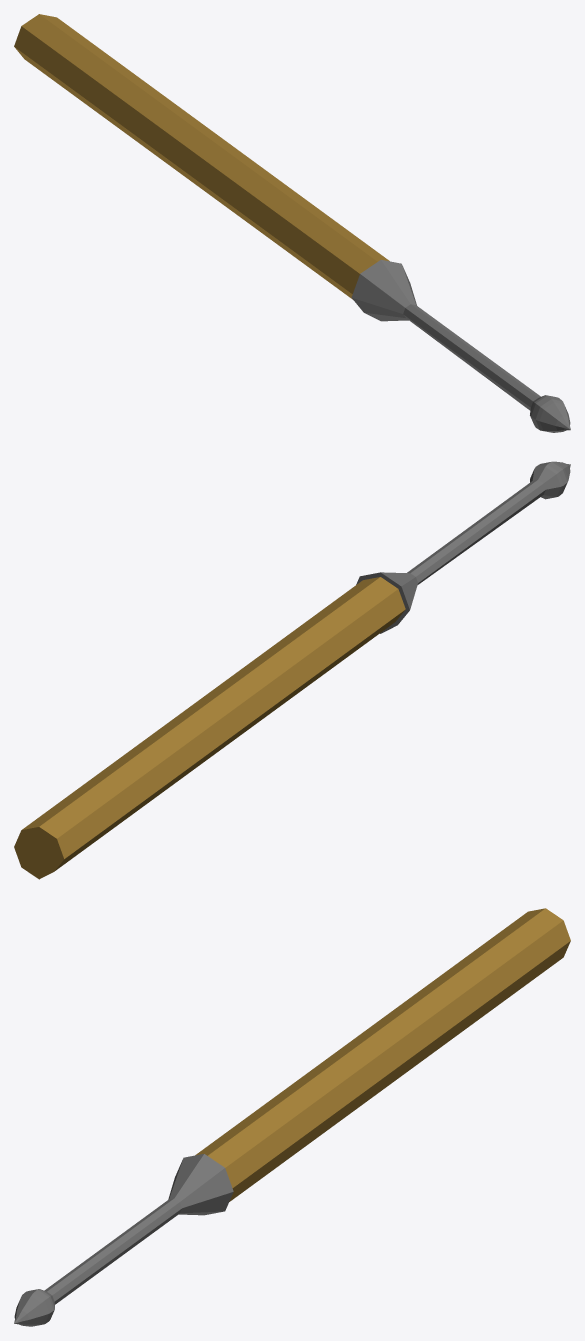
Rendered from JoãoPedroBaião_882555 (2).fbx_TiroArpao.fbx.
3 views of the same model, one above another, from view 1: azimuth 30°, elevation 25°; view 2: azimuth 150°, elevation 25°; view 3: azimuth 330°, elevation 25° (orthographic).
Parts seen in each view (by area): view 1: TiroArpao; view 2: TiroArpao; view 3: TiroArpao.
Part boxes in pixels (bbox=[...]): TiroArpao: bbox=[14, 14, 570, 432]; TiroArpao: bbox=[14, 461, 570, 879]; TiroArpao: bbox=[14, 908, 570, 1326].
Size of the model in its own units: 6.55 by 6.55 by 102.
